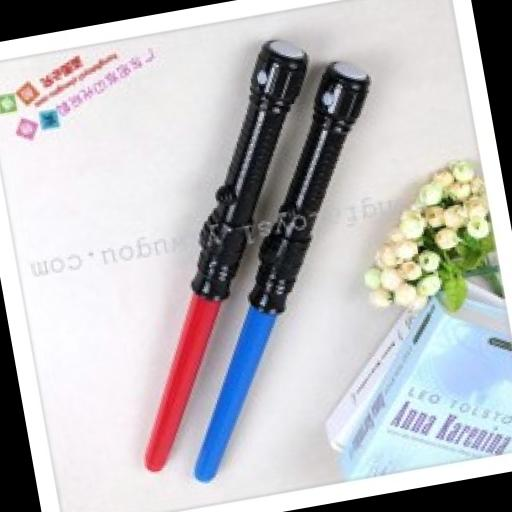lightsaber: (130, 54, 440, 484)
sith saber: (78, 34, 372, 474)
